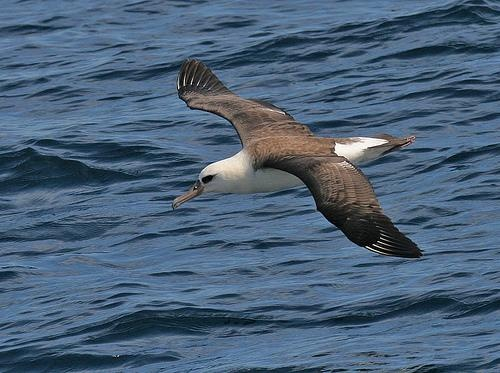bird: (170, 54, 424, 259)
